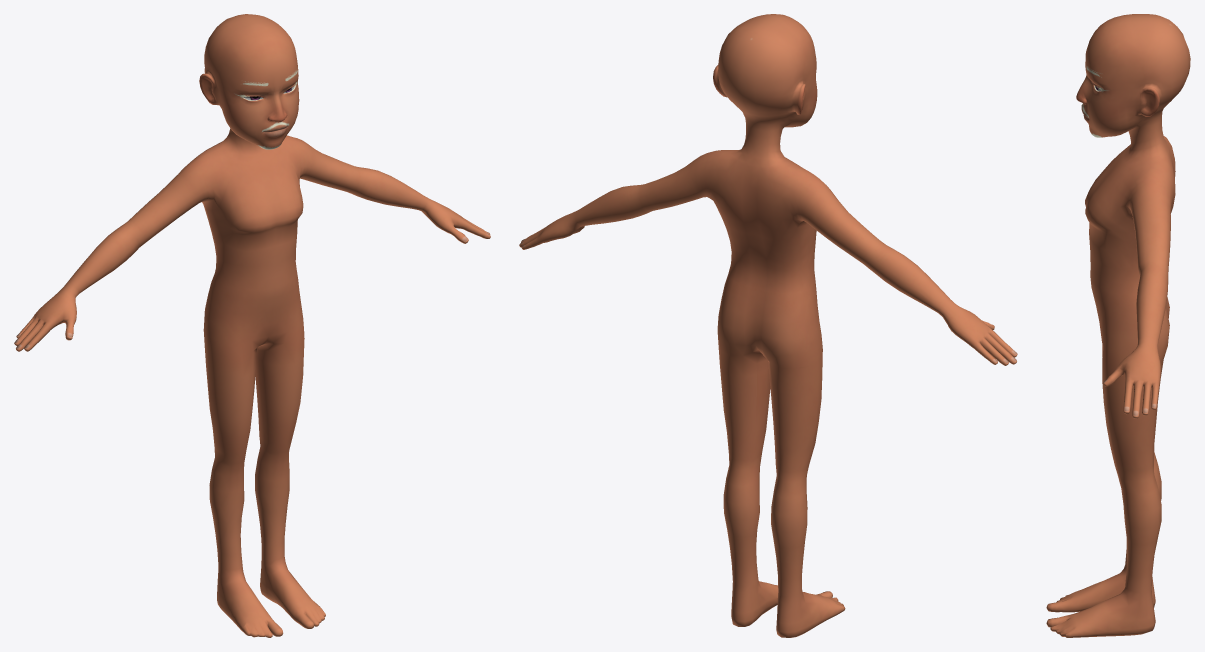
File: frame_0002.glb
The picture shows the model from 3 angles, left to right: view 1: azimuth 30°, elevation 25°; view 2: azimuth 150°, elevation 25°; view 3: azimuth 270°, elevation 25°; orthographic projection. The views are drawn at different scales.
Parts seen in each view (by area): view 1: frame_0002_head_geo; view 2: frame_0002_head_geo; view 3: frame_0002_head_geo.
Boxes of the visible parts, x1,y1,x2,y2 form: frame_0002_head_geo: [14, 14, 490, 637]; frame_0002_head_geo: [519, 14, 1017, 637]; frame_0002_head_geo: [1046, 14, 1190, 637].
Bounding box in the file's own units: 1.28 × 1.5 × 0.3253.
Materials: 3 (3 with a texture image).
